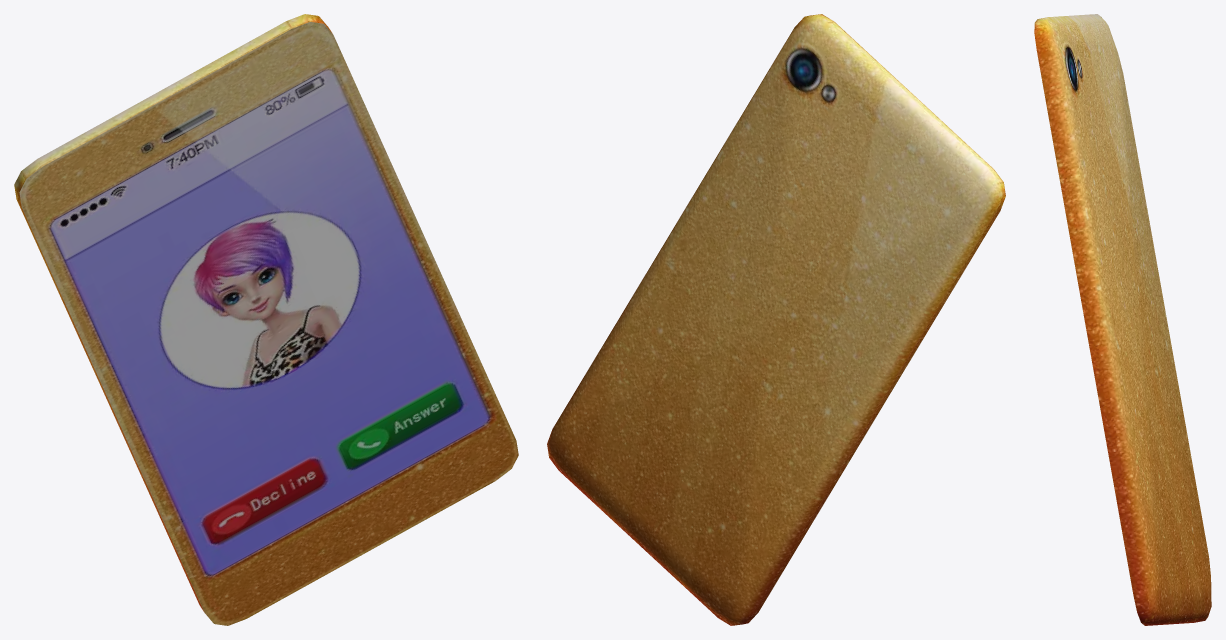
3 renders of one model, left to right at view 1: azimuth 30°, elevation 25°; view 2: azimuth 150°, elevation 25°; view 3: azimuth 270°, elevation 25°, orthographic. The views are drawn at different scales.
Parts seen in each view (by area): view 1: boy_classroom_items_002; view 2: boy_classroom_items_002; view 3: boy_classroom_items_002.
Part boxes in pixels (x1,y1,x2,y2): boy_classroom_items_002: (14,14,518,625); boy_classroom_items_002: (547,14,1005,625); boy_classroom_items_002: (1034,14,1211,625).
Bounding box in the file's own units: 0.00393 × 0.00484 × 0.00131.
Materials: 1 (1 with a texture image).
